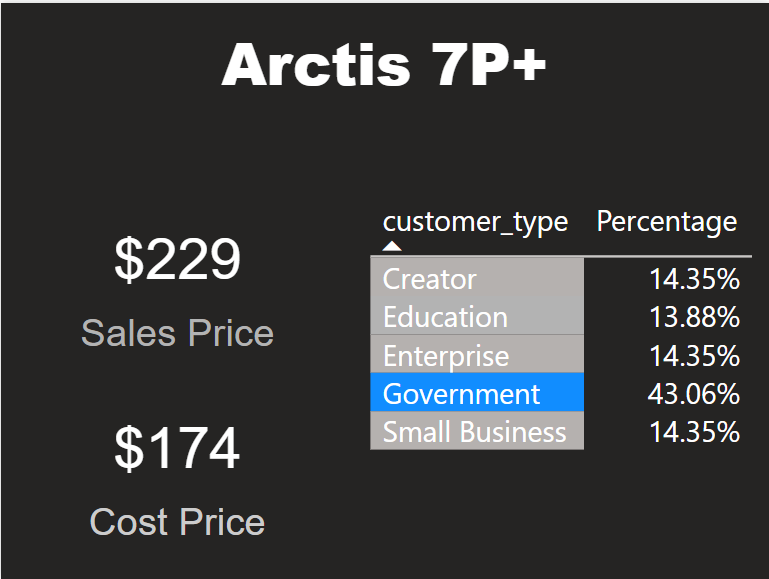

Layout of this report page (visuals, bound fields, positions):
{"tool":"powerbi","page":{"name":"ToolTip","canvas":[320,240],"ordinal":1},"visuals":[{"type":"cardVisual","fields":{"Data":["Max(Query1.sale_price)"]},"box":[10,77,127,79],"z":0},{"type":"cardVisual","fields":{"Data":["Max(Query1.cost_price)"]},"box":[10,156,127,77],"z":1000},{"type":"card","fields":{"Values":["Min(Query1.product)"]},"box":[0,0,320,52],"z":2000},{"type":"tableEx","fields":{"Values":["Query1.customer_type","CountNonNull(Query1.customer_type)"]},"box":[148,77,172,118],"z":3000}]}

Visuals, with their boxes in screenshot pixels (x1, y1, x2, y2), scaled from the page's 320x240 canvas onto the 769x579 screenshot:
cardVisual - Max(Query1.sale_price): (x1=24, y1=186, x2=329, y2=376)
cardVisual - Max(Query1.cost_price): (x1=24, y1=376, x2=329, y2=562)
card - Min(Query1.product): (x1=0, y1=0, x2=768, y2=125)
tableEx - Query1.customer_type x CountNonNull(Query1.customer_type): (x1=356, y1=186, x2=768, y2=470)
